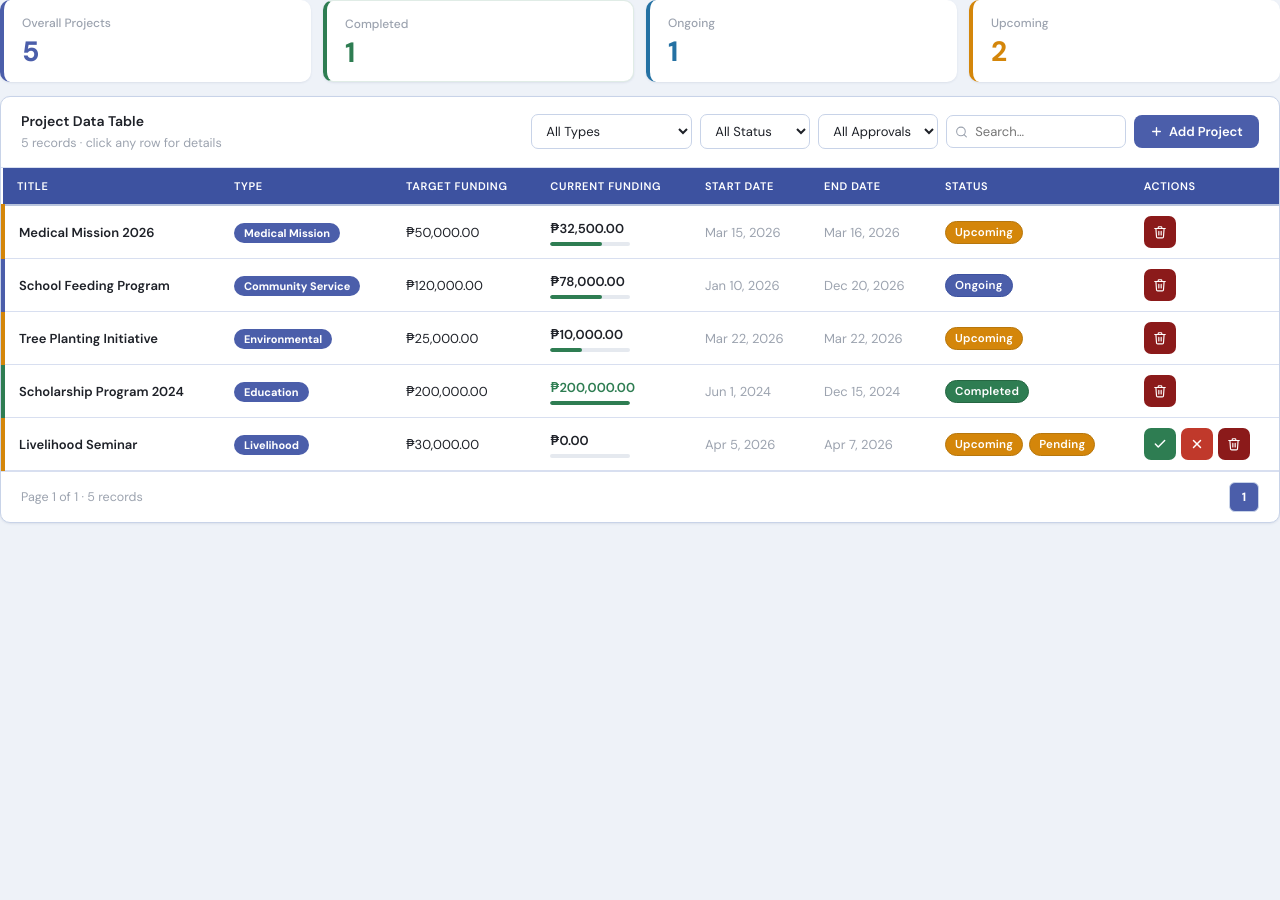
Test: Projects page › Reject marks it Rejected and keeps the lifecycle status (not Cancelled)
Click the button titled "Reject": (1197, 444) [1181, 428, 1213, 460]
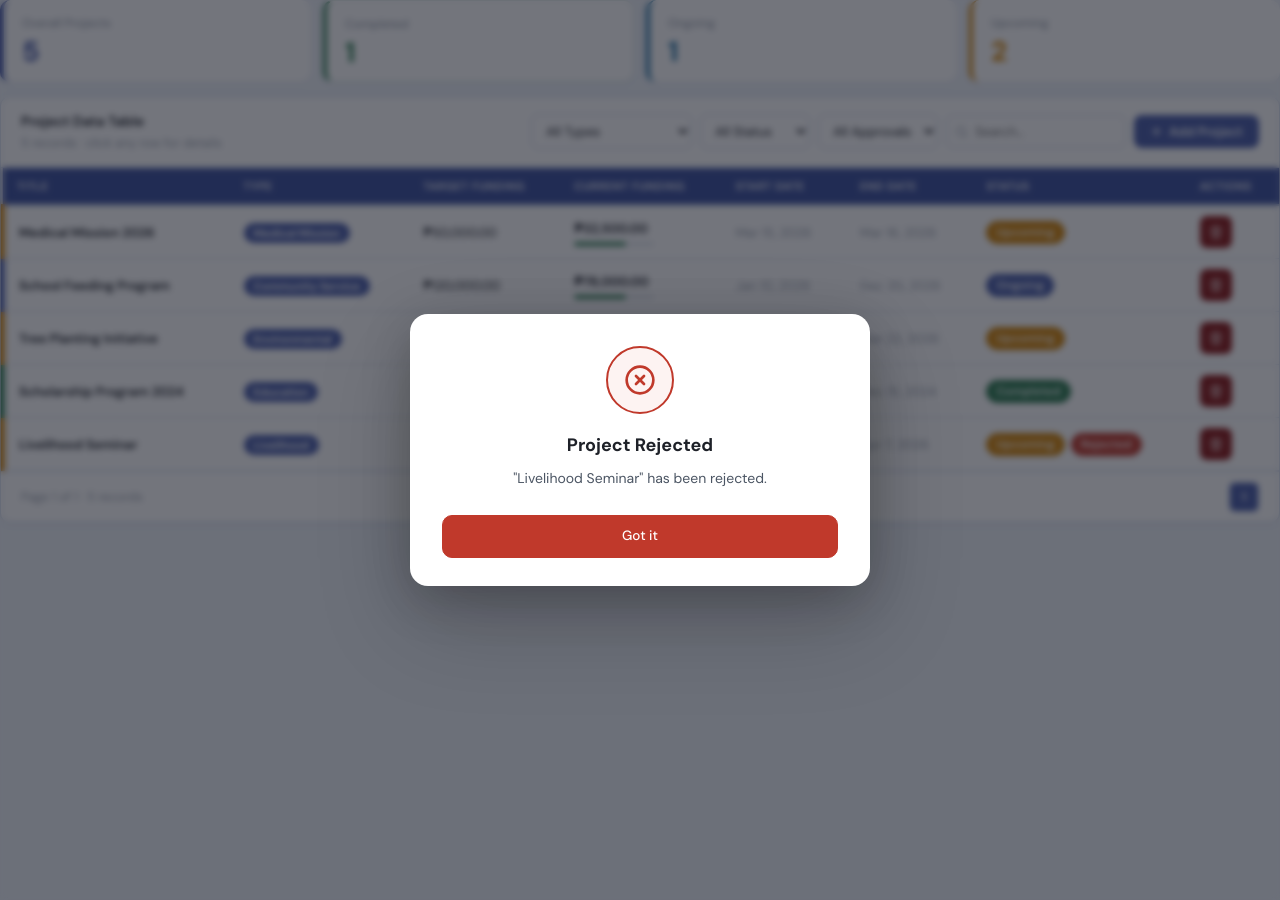
Expected: the text "Livelihood Seminar" shows "Upcoming", [996, 437, 1055, 452]
Expected: no buttons titled "Approve" are shown
Expected: the text "Livelihood Seminar" shows "Rejected", [1081, 437, 1132, 452]
